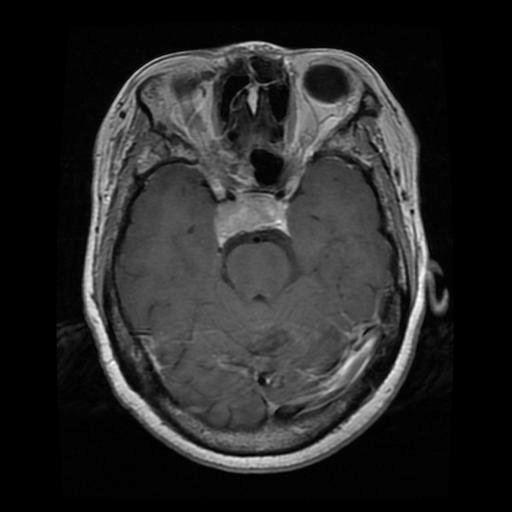Tumour-Pituitary: (211, 189, 295, 251)
